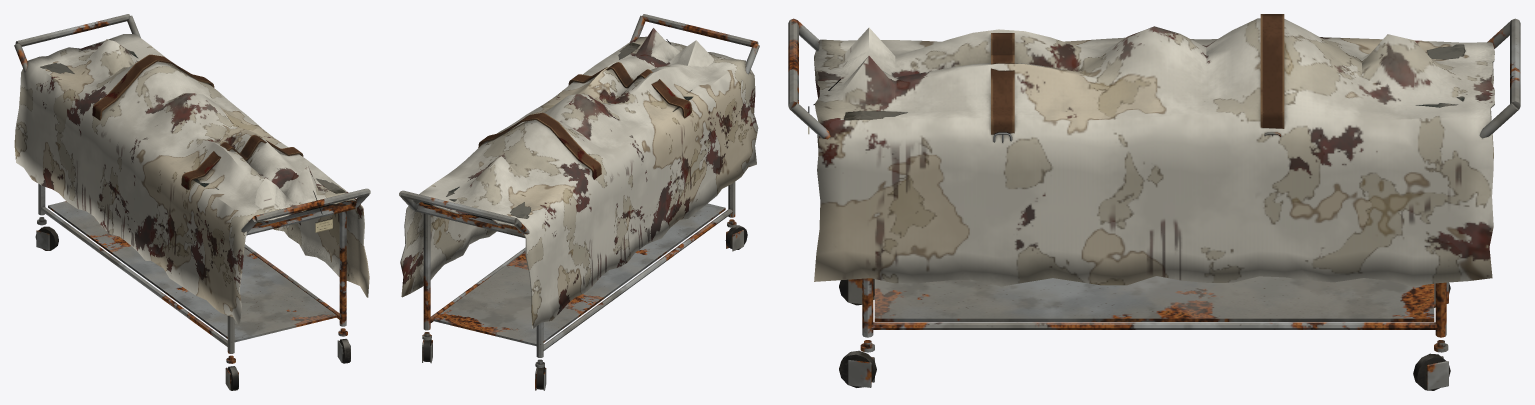
File: Gurney.fbx
3 renders of one model, left to right at view 1: azimuth 30°, elevation 25°; view 2: azimuth 150°, elevation 25°; view 3: azimuth 270°, elevation 25°, orthographic. The views are drawn at different scales.
Visible parts, largest first — view 1: Gurney; view 2: Gurney; view 3: Gurney.
Part boxes in pixels (x1=…): Gurney: x1=14, y1=14, x2=370, y2=390; Gurney: x1=399, y1=14, x2=759, y2=390; Gurney: x1=788, y1=14, x2=1520, y2=390.
Bounding box in the file's own units: 2.08 × 3.24 × 6.52.
1 material, 1 textured.
